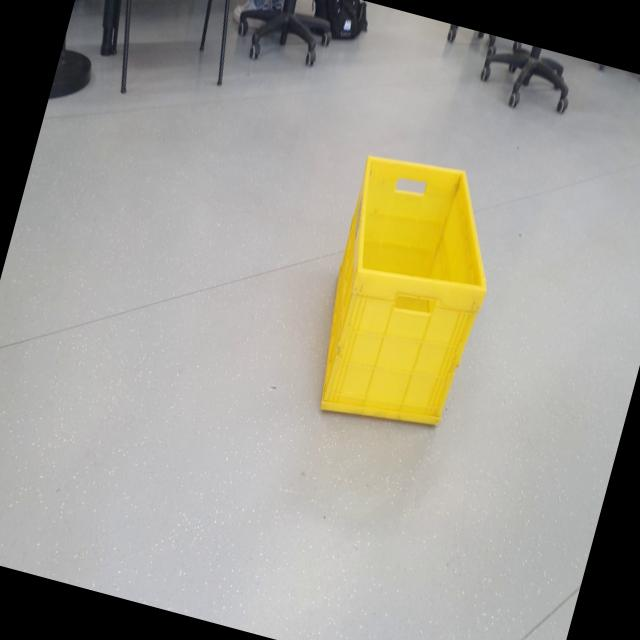box: (284, 131, 526, 460)
